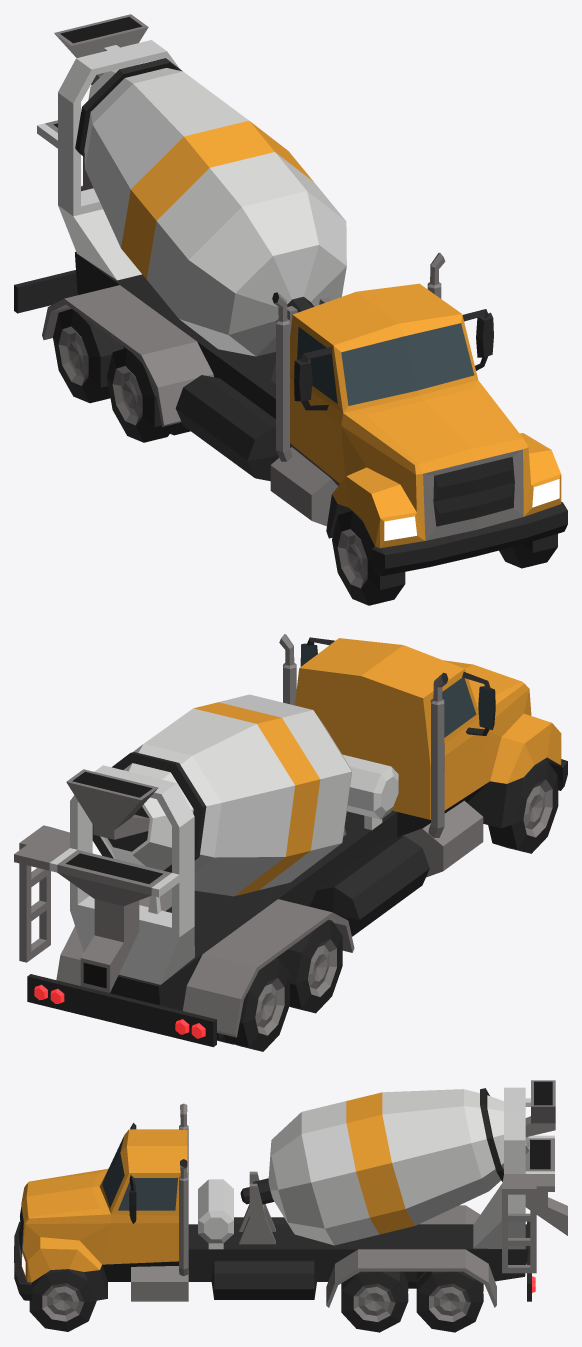
The model's file is vehicles_car-truck-cement.fbx.
3 views of the same model, one above another, from view 1: azimuth 30°, elevation 25°; view 2: azimuth 150°, elevation 25°; view 3: azimuth 270°, elevation 25° (orthographic). The views are drawn at different scales.
Visible parts, largest first — view 1: car_truck_cement_base, car_truck_cement_mixer, car_truck_cement_wheel_BR2, car_truck_cement_wheel_BR1, car_truck_cement_wheel_FR, car_truck_cement_wheel_FL; view 2: car_truck_cement_base, car_truck_cement_mixer, car_truck_cement_wheel_BR1, car_truck_cement_wheel_BR2, car_truck_cement_wheel_FR; view 3: car_truck_cement_base, car_truck_cement_mixer, car_truck_cement_wheel_BL2, car_truck_cement_wheel_BL1, car_truck_cement_wheel_FL.
Part boxes in pixels (x1,y1,x2,y2): car_truck_cement_base: (14, 14, 567, 575); car_truck_cement_mixer: (75, 58, 346, 356); car_truck_cement_wheel_BR2: (53, 308, 125, 403); car_truck_cement_wheel_BR1: (107, 348, 190, 442); car_truck_cement_wheel_FR: (332, 511, 405, 605); car_truck_cement_wheel_FL: (499, 534, 557, 568); car_truck_cement_base: (14, 634, 567, 1047); car_truck_cement_mixer: (92, 694, 352, 896); car_truck_cement_wheel_BR1: (276, 919, 342, 1013); car_truck_cement_wheel_BR2: (217, 958, 289, 1051); car_truck_cement_wheel_FR: (488, 760, 558, 853); car_truck_cement_base: (14, 1080, 567, 1307); car_truck_cement_mixer: (240, 1088, 529, 1245); car_truck_cement_wheel_BL2: (416, 1271, 483, 1332); car_truck_cement_wheel_BL1: (341, 1271, 408, 1332); car_truck_cement_wheel_FL: (29, 1269, 96, 1331).
Size of the model in its own units: 57.9 by 82.91 by 200.
